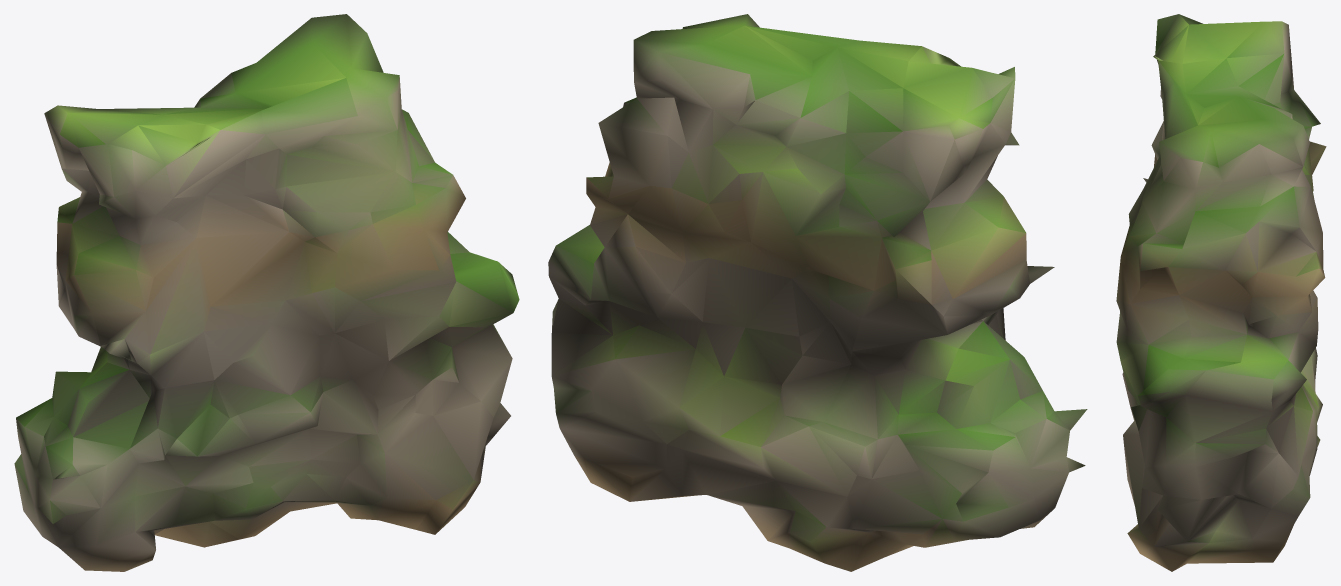
File: glade_cliff_wall_a_lod2.glb
The picture shows the model from 3 angles, left to right: view 1: azimuth 30°, elevation 25°; view 2: azimuth 150°, elevation 25°; view 3: azimuth 270°, elevation 25°; orthographic projection. The views are drawn at different scales.
Visible parts, largest first — view 1: glade_cliff_wall_a.001; view 2: glade_cliff_wall_a.001; view 3: glade_cliff_wall_a.001.
Part boxes in pixels (x1=…): glade_cliff_wall_a.001: x1=14, y1=14, x2=519, y2=571; glade_cliff_wall_a.001: x1=548, y1=14, x2=1087, y2=571; glade_cliff_wall_a.001: x1=1116, y1=14, x2=1326, y2=571.
Bounding box in the file's own units: 16.71 × 15.93 × 7.27.
